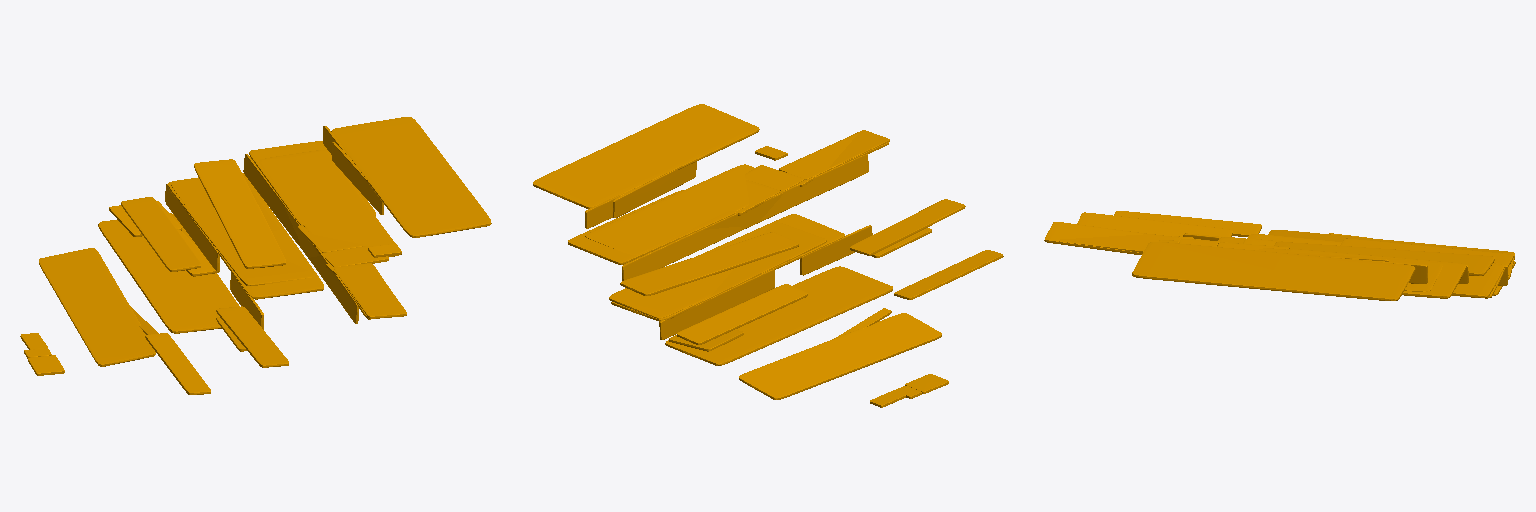
robot.urdf — scene:
<?xml version='1.0' encoding='utf-8'?>
<robot name="scene"><link name="scene_link"><visual><origin xyz="0.000000 0.000000 0.000000" rpy="0.000000 -0.000000 0.000000" /><geometry><mesh filename="part_000.obj" /></geometry></visual><collision><origin xyz="0.000000 0.000000 0.000000" rpy="0.000000 -0.000000 0.000000" /><geometry><mesh filename="part_000.obj" /></geometry></collision><visual><origin xyz="0.000000 0.000000 0.000000" rpy="0.000000 -0.000000 0.000000" /><geometry><mesh filename="part_001.obj" /></geometry></visual><collision><origin xyz="0.000000 0.000000 0.000000" rpy="0.000000 -0.000000 0.000000" /><geometry><mesh filename="part_001.obj" /></geometry></collision><visual><origin xyz="0.000000 0.000000 0.000000" rpy="0.000000 -0.000000 0.000000" /><geometry><mesh filename="part_002.obj" /></geometry></visual><collision><origin xyz="0.000000 0.000000 0.000000" rpy="0.000000 -0.000000 0.000000" /><geometry><mesh filename="part_002.obj" /></geometry></collision><visual><origin xyz="0.000000 0.000000 0.000000" rpy="0.000000 -0.000000 0.000000" /><geometry><mesh filename="part_003.obj" /></geometry></visual><collision><origin xyz="0.000000 0.000000 0.000000" rpy="0.000000 -0.000000 0.000000" /><geometry><mesh filename="part_003.obj" /></geometry></collision><visual><origin xyz="0.000000 0.000000 0.000000" rpy="0.000000 -0.000000 0.000000" /><geometry><mesh filename="part_004.obj" /></geometry></visual><collision><origin xyz="0.000000 0.000000 0.000000" rpy="0.000000 -0.000000 0.000000" /><geometry><mesh filename="part_004.obj" /></geometry></collision><visual><origin xyz="0.000000 0.000000 0.000000" rpy="0.000000 -0.000000 0.000000" /><geometry><mesh filename="part_005.obj" /></geometry></visual><collision><origin xyz="0.000000 0.000000 0.000000" rpy="0.000000 -0.000000 0.000000" /><geometry><mesh filename="part_005.obj" /></geometry></collision><visual><origin xyz="0.000000 0.000000 0.000000" rpy="0.000000 -0.000000 0.000000" /><geometry><mesh filename="part_006.obj" /></geometry></visual><collision><origin xyz="0.000000 0.000000 0.000000" rpy="0.000000 -0.000000 0.000000" /><geometry><mesh filename="part_006.obj" /></geometry></collision><visual><origin xyz="0.000000 0.000000 0.000000" rpy="0.000000 -0.000000 0.000000" /><geometry><mesh filename="part_007.obj" /></geometry></visual><collision><origin xyz="0.000000 0.000000 0.000000" rpy="0.000000 -0.000000 0.000000" /><geometry><mesh filename="part_007.obj" /></geometry></collision><visual><origin xyz="0.000000 0.000000 0.000000" rpy="0.000000 -0.000000 0.000000" /><geometry><mesh filename="part_008.obj" /></geometry></visual><collision><origin xyz="0.000000 0.000000 0.000000" rpy="0.000000 -0.000000 0.000000" /><geometry><mesh filename="part_008.obj" /></geometry></collision><visual><origin xyz="0.000000 0.000000 0.000000" rpy="0.000000 -0.000000 0.000000" /><geometry><mesh filename="part_009.obj" /></geometry></visual><collision><origin xyz="0.000000 0.000000 0.000000" rpy="0.000000 -0.000000 0.000000" /><geometry><mesh filename="part_009.obj" /></geometry></collision><visual><origin xyz="0.000000 0.000000 0.000000" rpy="0.000000 -0.000000 0.000000" /><geometry><mesh filename="part_010.obj" /></geometry></visual><collision><origin xyz="0.000000 0.000000 0.000000" rpy="0.000000 -0.000000 0.000000" /><geometry><mesh filename="part_010.obj" /></geometry></collision><visual><origin xyz="0.000000 0.000000 0.000000" rpy="0.000000 -0.000000 0.000000" /><geometry><mesh filename="part_011.obj" /></geometry></visual><collision><origin xyz="0.000000 0.000000 0.000000" rpy="0.000000 -0.000000 0.000000" /><geometry><mesh filename="part_011.obj" /></geometry></collision><visual><origin xyz="0.000000 0.000000 0.000000" rpy="0.000000 -0.000000 0.000000" /><geometry><mesh filename="part_012.obj" /></geometry></visual><collision><origin xyz="0.000000 0.000000 0.000000" rpy="0.000000 -0.000000 0.000000" /><geometry><mesh filename="part_012.obj" /></geometry></collision><visual><origin xyz="0.000000 0.000000 0.000000" rpy="0.000000 -0.000000 0.000000" /><geometry><mesh filename="part_013.obj" /></geometry></visual><collision><origin xyz="0.000000 0.000000 0.000000" rpy="0.000000 -0.000000 0.000000" /><geometry><mesh filename="part_013.obj" /></geometry></collision><visual><origin xyz="0.000000 0.000000 0.000000" rpy="0.000000 -0.000000 0.000000" /><geometry><mesh filename="part_014.obj" /></geometry></visual><collision><origin xyz="0.000000 0.000000 0.000000" rpy="0.000000 -0.000000 0.000000" /><geometry><mesh filename="part_014.obj" /></geometry></collision><visual><origin xyz="0.000000 0.000000 0.000000" rpy="0.000000 -0.000000 0.000000" /><geometry><mesh filename="part_015.obj" /></geometry></visual><collision><origin xyz="0.000000 0.000000 0.000000" rpy="0.000000 -0.000000 0.000000" /><geometry><mesh filename="part_015.obj" /></geometry></collision><visual><origin xyz="0.000000 0.000000 0.000000" rpy="0.000000 -0.000000 0.000000" /><geometry><mesh filename="part_016.obj" /></geometry></visual><collision><origin xyz="0.000000 0.000000 0.000000" rpy="0.000000 -0.000000 0.000000" /><geometry><mesh filename="part_016.obj" /></geometry></collision><visual><origin xyz="0.000000 0.000000 0.000000" rpy="0.000000 -0.000000 0.000000" /><geometry><mesh filename="part_017.obj" /></geometry></visual><collision><origin xyz="0.000000 0.000000 0.000000" rpy="0.000000 -0.000000 0.000000" /><geometry><mesh filename="part_017.obj" /></geometry></collision><visual><origin xyz="0.000000 0.000000 0.000000" rpy="0.000000 -0.000000 0.000000" /><geometry><mesh filename="part_018.obj" /></geometry></visual><collision><origin xyz="0.000000 0.000000 0.000000" rpy="0.000000 -0.000000 0.000000" /><geometry><mesh filename="part_018.obj" /></geometry></collision><visual><origin xyz="0.000000 0.000000 0.000000" rpy="0.000000 -0.000000 0.000000" /><geometry><mesh filename="part_019.obj" /></geometry></visual><collision><origin xyz="0.000000 0.000000 0.000000" rpy="0.000000 -0.000000 0.000000" /><geometry><mesh filename="part_019.obj" /></geometry></collision><visual><origin xyz="0.000000 0.000000 0.000000" rpy="0.000000 -0.000000 0.000000" /><geometry><mesh filename="part_020.obj" /></geometry></visual><collision><origin xyz="0.000000 0.000000 0.000000" rpy="0.000000 -0.000000 0.000000" /><geometry><mesh filename="part_020.obj" /></geometry></collision><visual><origin xyz="0.000000 0.000000 0.000000" rpy="0.000000 -0.000000 0.000000" /><geometry><mesh filename="part_021.obj" /></geometry></visual><collision><origin xyz="0.000000 0.000000 0.000000" rpy="0.000000 -0.000000 0.000000" /><geometry><mesh filename="part_021.obj" /></geometry></collision><visual><origin xyz="0.000000 0.000000 0.000000" rpy="0.000000 -0.000000 0.000000" /><geometry><mesh filename="part_022.obj" /></geometry></visual><collision><origin xyz="0.000000 0.000000 0.000000" rpy="0.000000 -0.000000 0.000000" /><geometry><mesh filename="part_022.obj" /></geometry></collision><visual><origin xyz="0.000000 0.000000 0.000000" rpy="0.000000 -0.000000 0.000000" /><geometry><mesh filename="part_023.obj" /></geometry></visual><collision><origin xyz="0.000000 0.000000 0.000000" rpy="0.000000 -0.000000 0.000000" /><geometry><mesh filename="part_023.obj" /></geometry></collision><visual><origin xyz="0.000000 0.000000 0.000000" rpy="0.000000 -0.000000 0.000000" /><geometry><mesh filename="part_024.obj" /></geometry></visual><collision><origin xyz="0.000000 0.000000 0.000000" rpy="0.000000 -0.000000 0.000000" /><geometry><mesh filename="part_024.obj" /></geometry></collision><visual><origin xyz="0.000000 0.000000 0.000000" rpy="0.000000 -0.000000 0.000000" /><geometry><mesh filename="part_025.obj" /></geometry></visual><collision><origin xyz="0.000000 0.000000 0.000000" rpy="0.000000 -0.000000 0.000000" /><geometry><mesh filename="part_025.obj" /></geometry></collision><visual><origin xyz="0.000000 0.000000 0.000000" rpy="0.000000 -0.000000 0.000000" /><geometry><mesh filename="part_026.obj" /></geometry></visual><collision><origin xyz="0.000000 0.000000 0.000000" rpy="0.000000 -0.000000 0.000000" /><geometry><mesh filename="part_026.obj" /></geometry></collision><visual><origin xyz="0.000000 0.000000 0.000000" rpy="0.000000 -0.000000 0.000000" /><geometry><mesh filename="part_027.obj" /></geometry></visual><collision><origin xyz="0.000000 0.000000 0.000000" rpy="0.000000 -0.000000 0.000000" /><geometry><mesh filename="part_027.obj" /></geometry></collision><visual><origin xyz="0.000000 0.000000 0.000000" rpy="0.000000 -0.000000 0.000000" /><geometry><mesh filename="part_028.obj" /></geometry></visual><collision><origin xyz="0.000000 0.000000 0.000000" rpy="0.000000 -0.000000 0.000000" /><geometry><mesh filename="part_028.obj" /></geometry></collision><visual><origin xyz="0.000000 0.000000 0.000000" rpy="0.000000 -0.000000 0.000000" /><geometry><mesh filename="part_029.obj" /></geometry></visual><collision><origin xyz="0.000000 0.000000 0.000000" rpy="0.000000 -0.000000 0.000000" /><geometry><mesh filename="part_029.obj" /></geometry></collision><visual><origin xyz="0.000000 0.000000 0.000000" rpy="0.000000 -0.000000 0.000000" /><geometry><mesh filename="part_030.obj" /></geometry></visual><collision><origin xyz="0.000000 0.000000 0.000000" rpy="0.000000 -0.000000 0.000000" /><geometry><mesh filename="part_030.obj" /></geometry></collision><visual><origin xyz="0.000000 0.000000 0.000000" rpy="0.000000 -0.000000 0.000000" /><geometry><mesh filename="part_031.obj" /></geometry></visual><collision><origin xyz="0.000000 0.000000 0.000000" rpy="0.000000 -0.000000 0.000000" /><geometry><mesh filename="part_031.obj" /></geometry></collision><visual><origin xyz="0.000000 0.000000 0.000000" rpy="0.000000 -0.000000 0.000000" /><geometry><mesh filename="part_032.obj" /></geometry></visual><collision><origin xyz="0.000000 0.000000 0.000000" rpy="0.000000 -0.000000 0.000000" /><geometry><mesh filename="part_032.obj" /></geometry></collision></link></robot>

--- What the picture shows (computed from the rendered views, not written in the file) ---
Views: 3 orthographic renders of the robot side by side, from view 1: azimuth 30°, elevation 25°; view 2: azimuth 150°, elevation 25°; view 3: azimuth 270°, elevation 25°.
Robot: scene — 1 links, 0 joints (none); root link scene_link; default pose: every joint at zero.
Links seen in each view (by area): view 1: scene_link; view 2: scene_link; view 3: scene_link.
Boxes of the visible links, <box> form: scene_link: <box>20,117,491,394</box>; scene_link: <box>533,104,1003,407</box>; scene_link: <box>1044,211,1515,300</box>.
Bounding box of the posed robot: 6.33 × 6.23 × 2.04 m (x, y, z).
Meshes: 33 distinct files referenced, 33 mesh visuals loaded (33 OBJ).